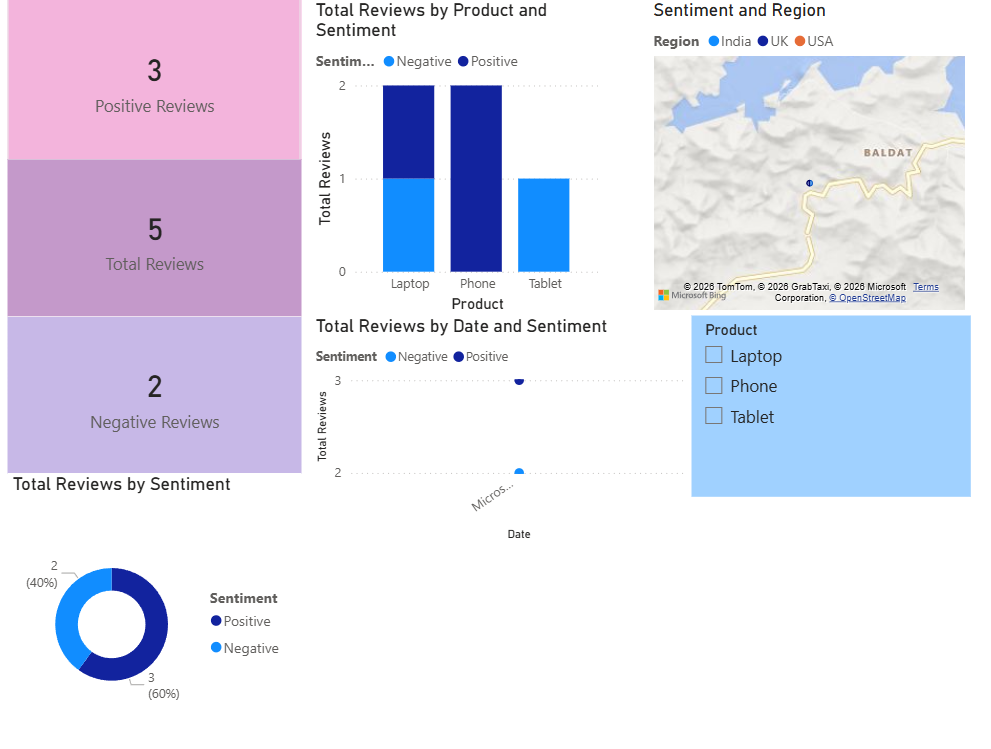

The dashboard page shown, as its layout file describes it:
{"tool":"powerbi","page":{"name":"Page 1","canvas":[1280,720],"ordinal":0},"visuals":[{"type":"card","fields":{"Values":["FactReviews.Positive Reviews"]},"box":[9.4,0,279.7,153.1],"z":0},{"type":"card","fields":{"Values":["FactReviews.Total Reviews"]},"box":[9.4,153.1,279.7,149.3],"z":1},{"type":"card","fields":{"Values":["FactReviews.Negative Reviews"]},"box":[9.4,302.4,279.7,149.3],"z":2},{"type":"donutChart","fields":{"Category":["FactReviews.Sentiment"],"Y":["FactReviews.Total Reviews"]},"box":[9.4,451.7,279.7,268.3],"z":3},{"type":"columnChart","fields":{"Category":["FactReviews.Product"],"Series":["FactReviews.Sentiment"],"Y":["FactReviews.Total Reviews"]},"box":[298.6,0,279.7,302.4],"z":4},{"type":"lineChart","fields":{"Category":["FactReviews.Date"],"Series":["FactReviews.Sentiment"],"Y":["FactReviews.Total Reviews"]},"box":[298.6,301.4,362.9,218.6],"z":5},{"type":"map","fields":{"Series":["FactReviews.Region"],"Category":["FactReviews.Sentiment"]},"box":[620,0,307.1,301.4],"z":6},{"type":"slicer","fields":{"Values":["FactReviews.Product"]},"box":[661.4,301.4,265.7,172.9],"z":7}]}

Visuals, with their boxes on the page's 1280x720 design canvas (x1, y1, x2, y2). These are canvas units, not pixel positions in the 991x749 screenshot, which may show the page scaled, cropped or inside an application window:
card - FactReviews.Positive Reviews: 9,0,289,153
card - FactReviews.Total Reviews: 9,153,289,302
card - FactReviews.Negative Reviews: 9,302,289,452
donutChart - FactReviews.Sentiment x FactReviews.Total Reviews: 9,452,289,720
columnChart - FactReviews.Product x FactReviews.Sentiment: 299,0,578,302
lineChart - FactReviews.Date x FactReviews.Sentiment: 299,301,662,520
map - FactReviews.Region x FactReviews.Sentiment: 620,0,927,301
slicer - FactReviews.Product: 661,301,927,474
